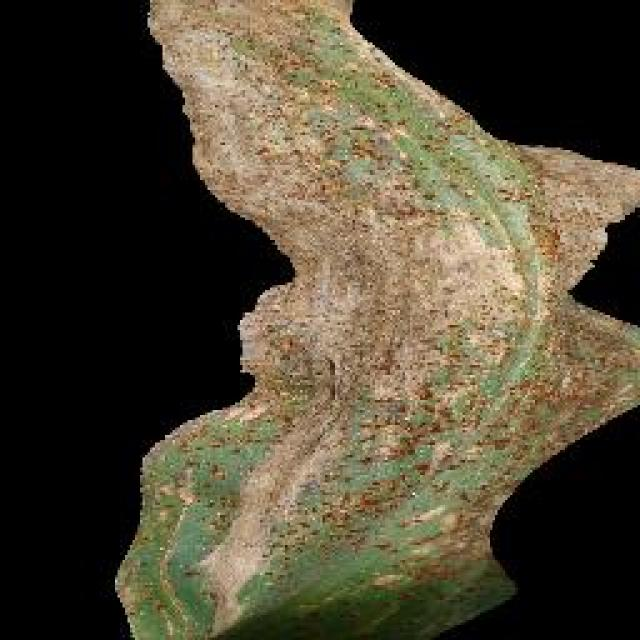Corn Common Rust: (224, 52, 574, 545)
